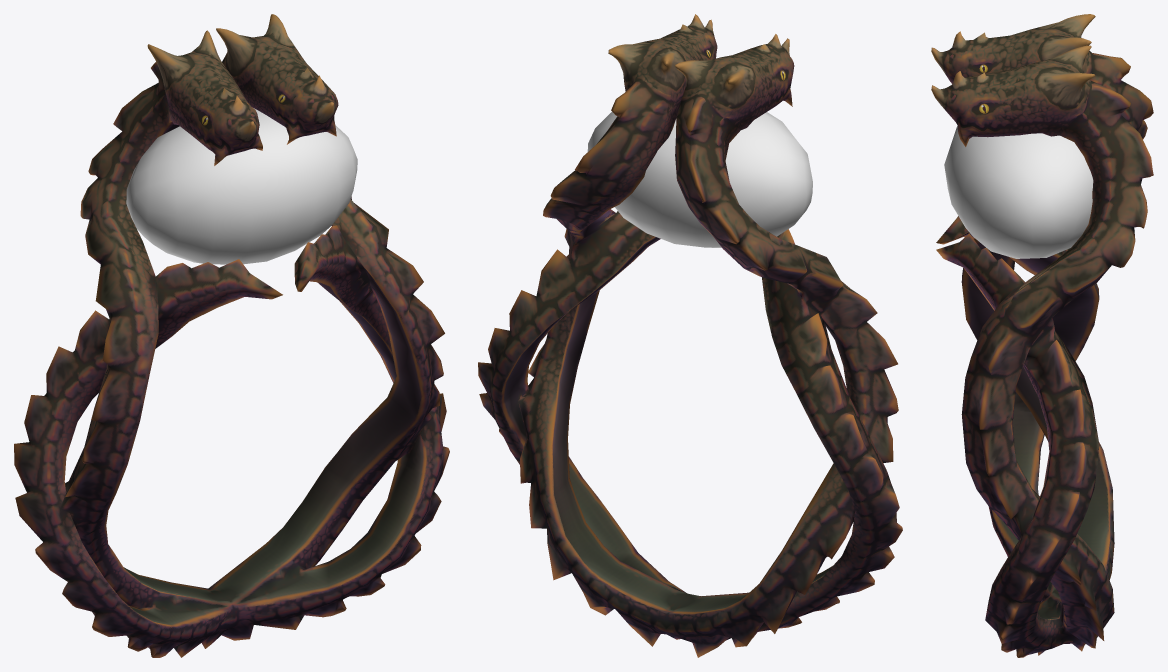
The model's file is Ring.fbx.
3 views of the same model, side by side, from view 1: azimuth 30°, elevation 25°; view 2: azimuth 150°, elevation 25°; view 3: azimuth 270°, elevation 25° (orthographic). The views are drawn at different scales.
Visible parts, largest first — view 1: Dragons.001, Gemstone; view 2: Dragons.001, Gemstone; view 3: Dragons.001, Gemstone.
Part boxes in pixels (x1=…): Dragons.001: x1=14, y1=14, x2=449, y2=657; Gemstone: x1=126, y1=108, x2=357, y2=264; Dragons.001: x1=478, y1=14, x2=902, y2=657; Gemstone: x1=587, y1=112, x2=812, y2=247; Dragons.001: x1=931, y1=14, x2=1153, y2=657; Gemstone: x1=944, y1=126, x2=1093, y2=258.
Bounding box in the file's own units: 7899 × 10729 × 3615.
